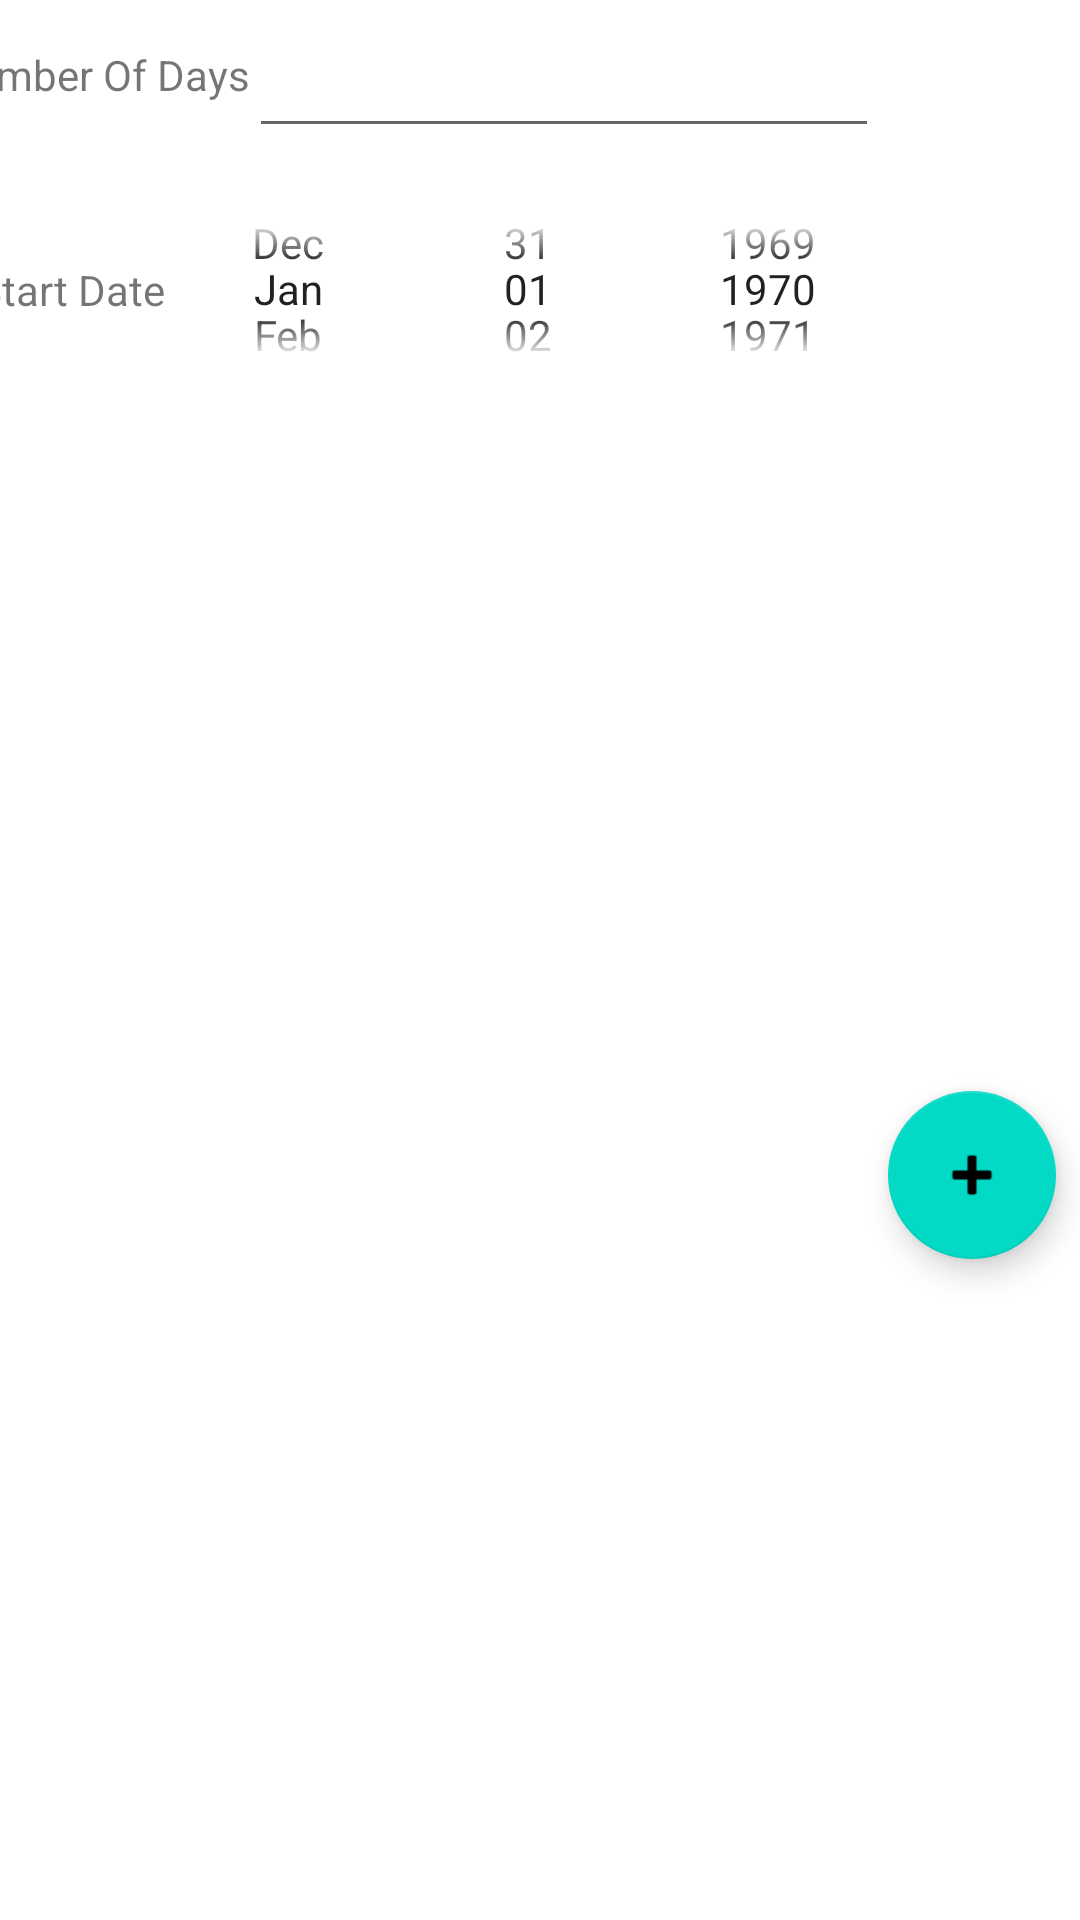

Where to tap for icons on this 1080×1920 app screen, as [x,y]:
add: [972,1175]
